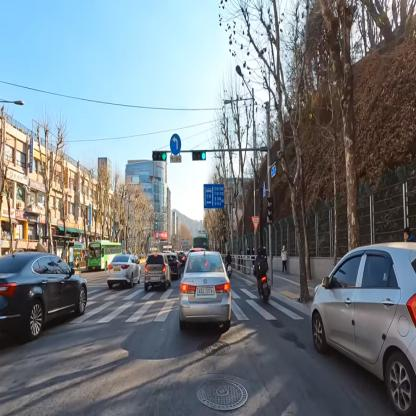Green: (152, 150, 166, 164), (192, 150, 207, 162)
